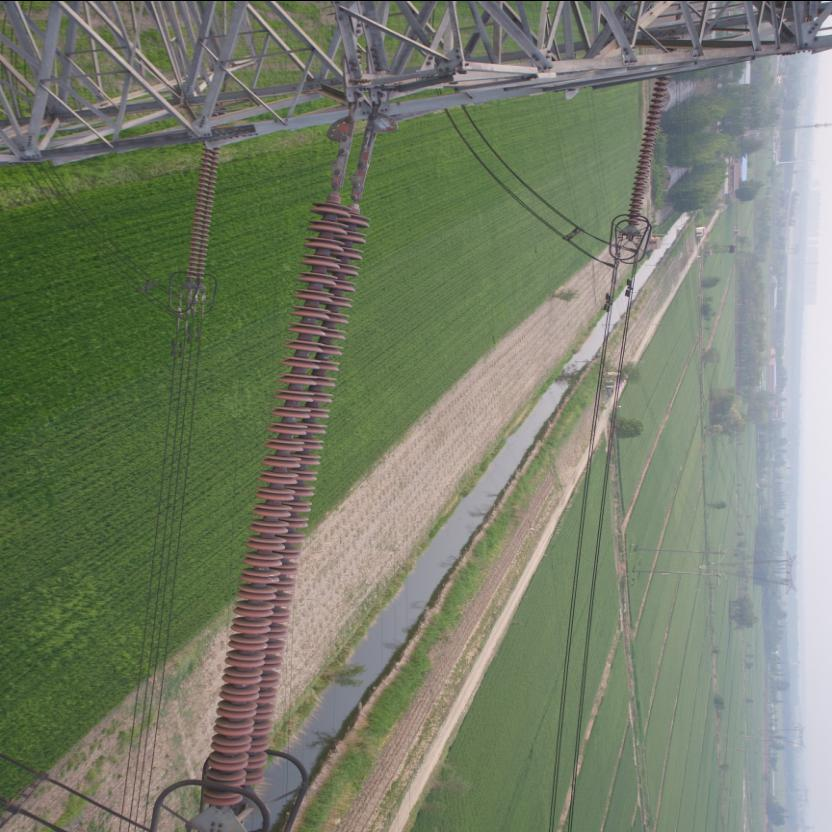insulator: (197, 164, 378, 820), (627, 76, 669, 230), (184, 146, 220, 286)
